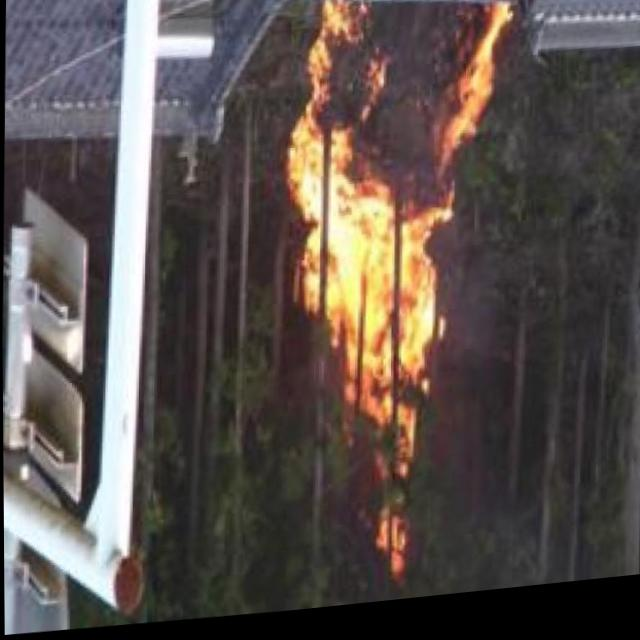Fire: (293, 0, 506, 491)
